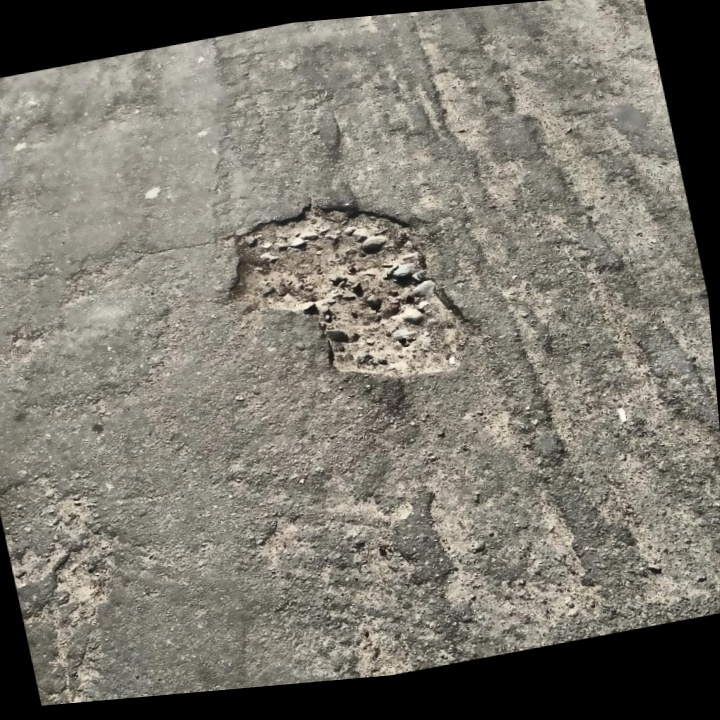pothole: (204, 173, 488, 418)
